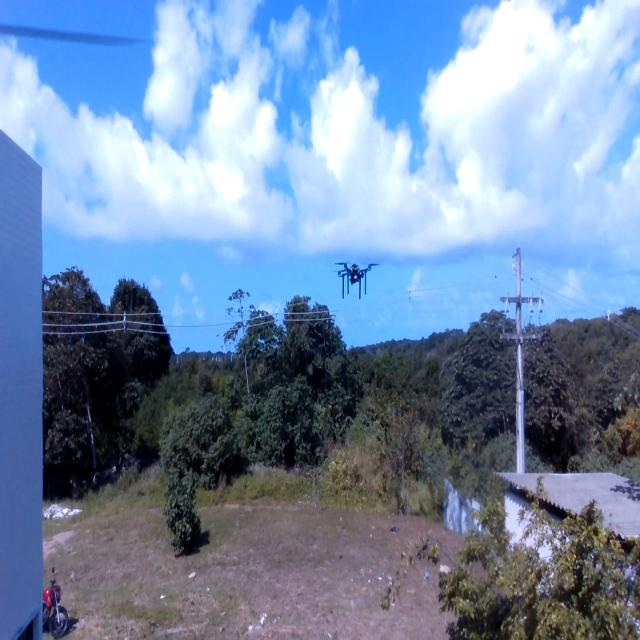-uav-: (328, 247, 387, 314)
